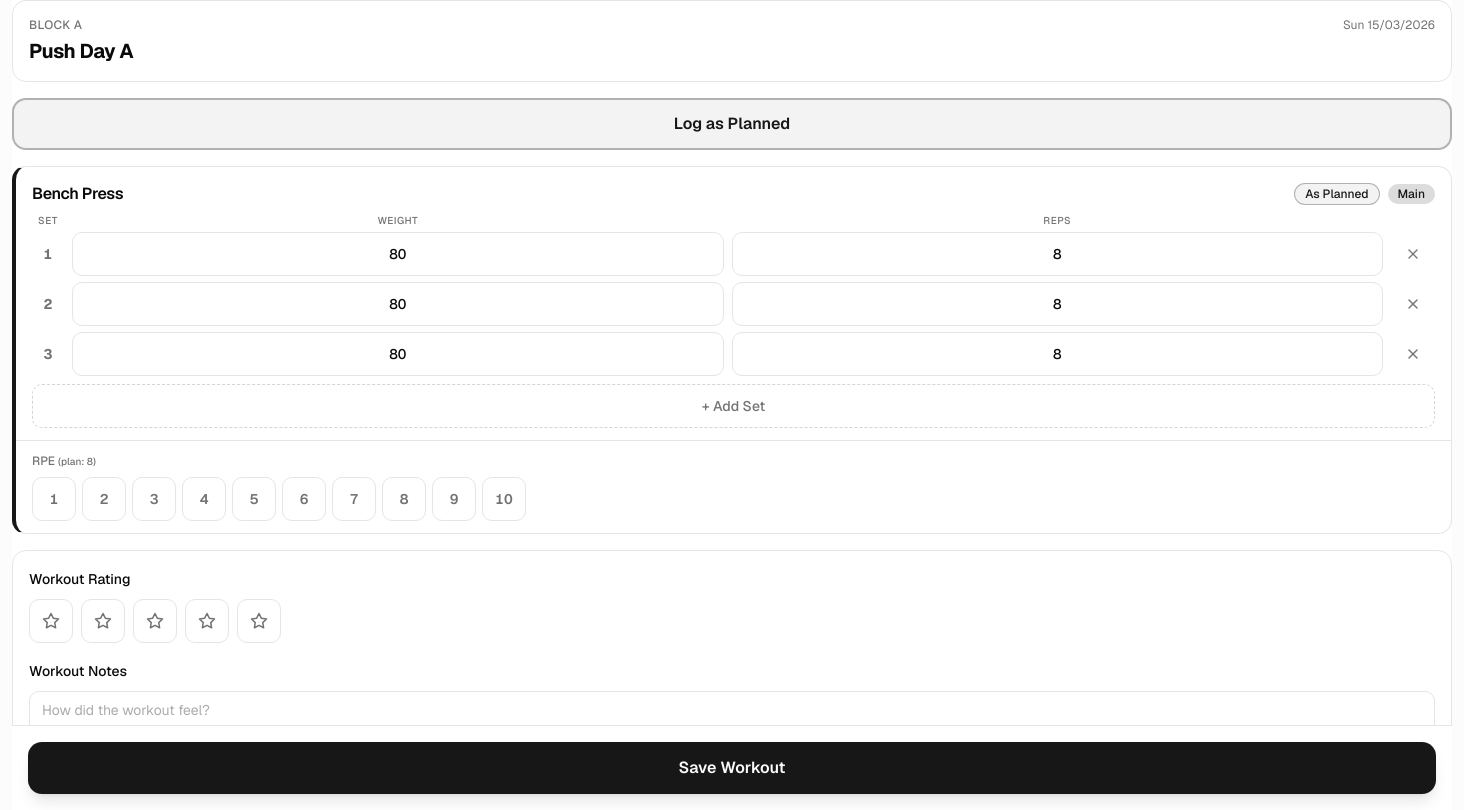
Per-exercise "As Planned" button — resistance › restores set count to target_sets when user removed sets
Remove a set (set 3)
Click the button named "Remove set" at {"x": 1413, "y": 354}, box [1391,332,1435,376]
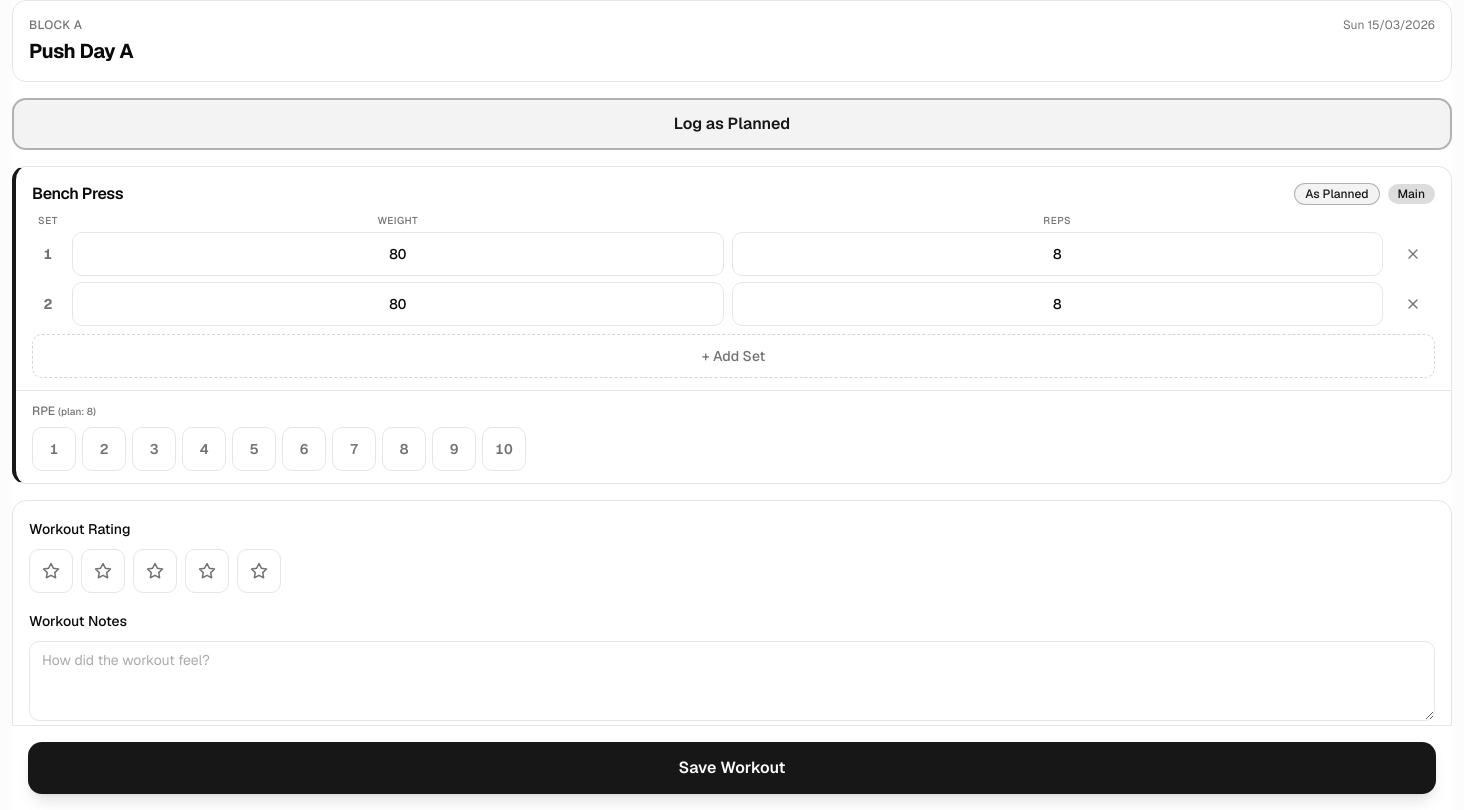
Result: the number of elements with test id "set-row" is 2 at [32,232,1435,276]; [32,282,1435,326]
Tap "As Planned"
Click the button with test id "as-planned-btn-0" at {"x": 1337, "y": 194}, box [1294,183,1380,205]
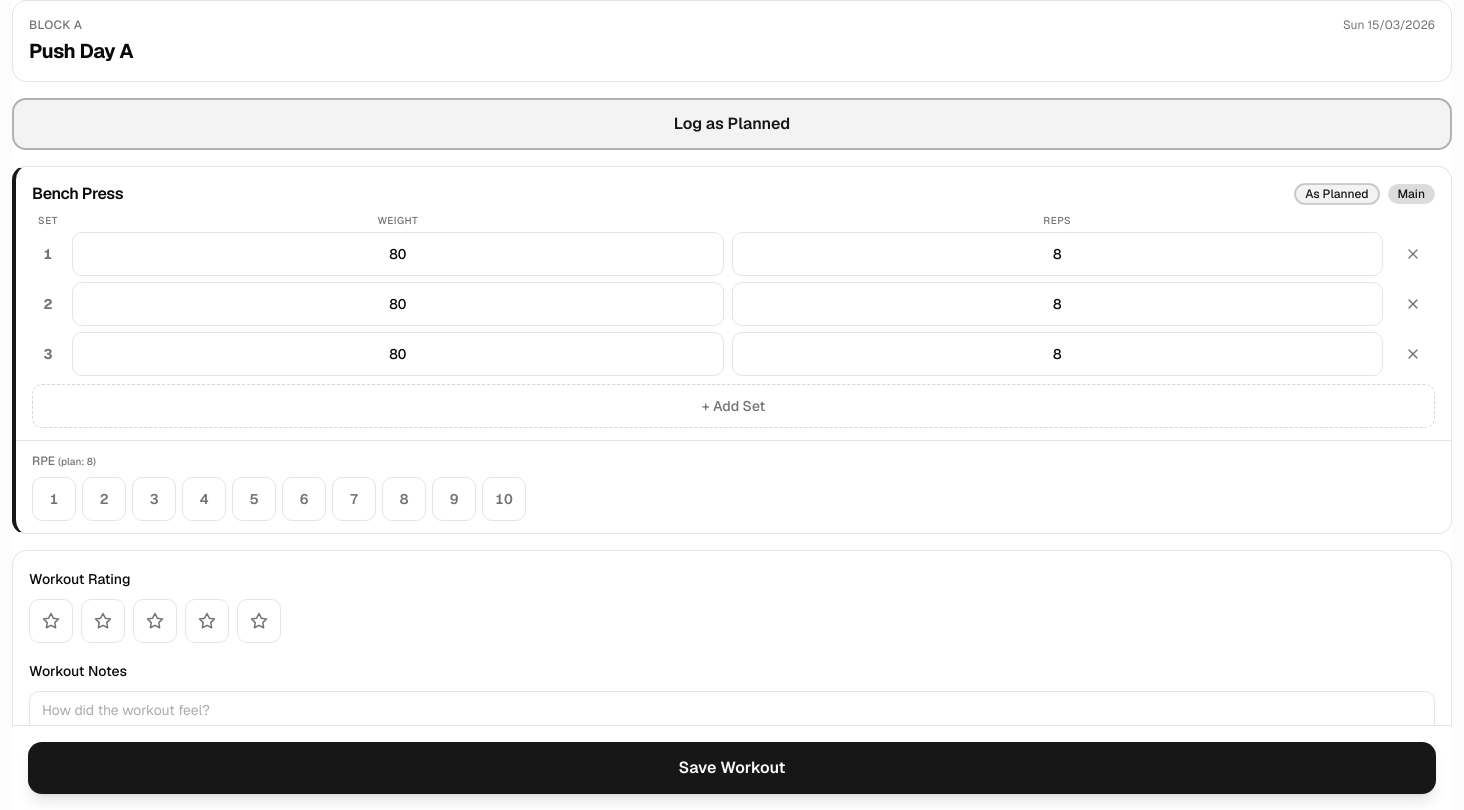
Expected: the field with test id "weight-input-0-0" holds "80", [72,232,724,276]
Result: the number of elements with test id "set-row" is 3 at [32,232,1435,276]; [32,282,1435,326]; [32,332,1435,376]
